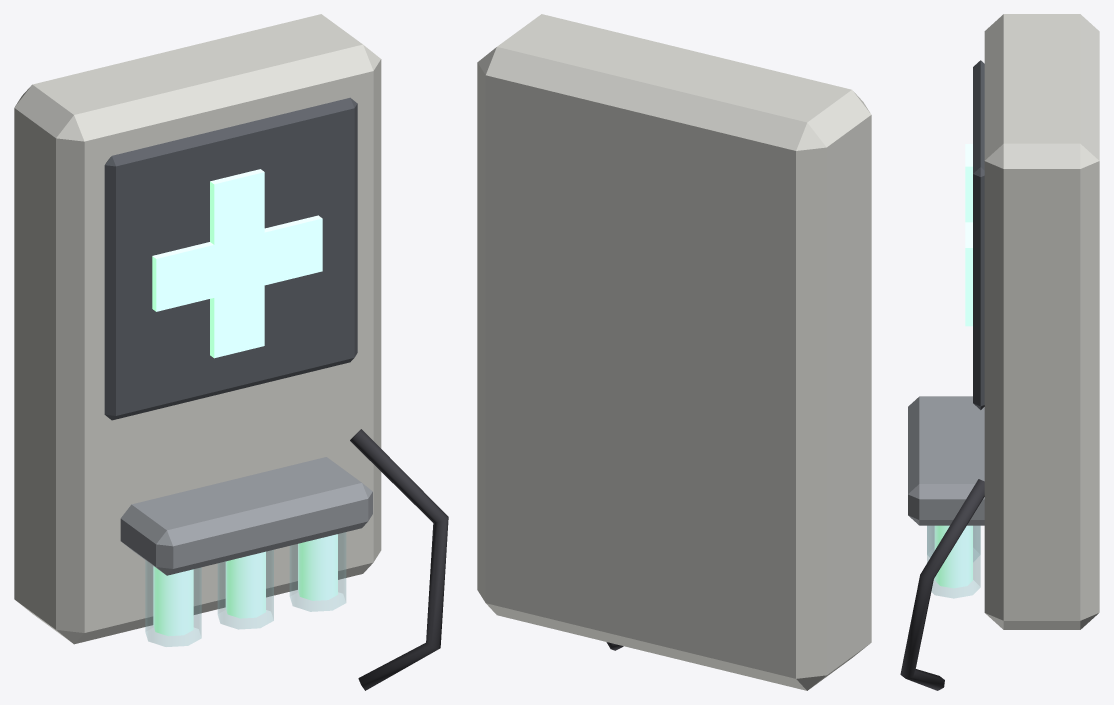
Rendered from health_station.glb.
The picture shows the model from 3 angles, left to right: view 1: azimuth 30°, elevation 25°; view 2: azimuth 150°, elevation 25°; view 3: azimuth 270°, elevation 25°; orthographic projection. The views are drawn at different scales.
Visible parts, largest first — view 1: health_station; view 2: health_station; view 3: health_station.
Part boxes in pixels (box(x1,y1,x2,y2)): health_station: box(14, 14, 448, 690); health_station: box(477, 14, 871, 690); health_station: box(900, 14, 1099, 690).
Size of the model in its own units: 0.9686 by 1.62 by 0.5194.
